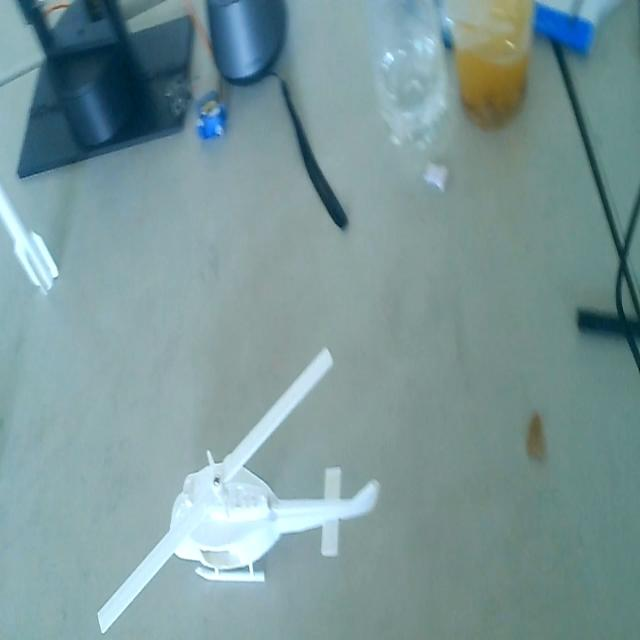Helicopter: (97, 348, 380, 640)
Rocket: (0, 182, 61, 302)
